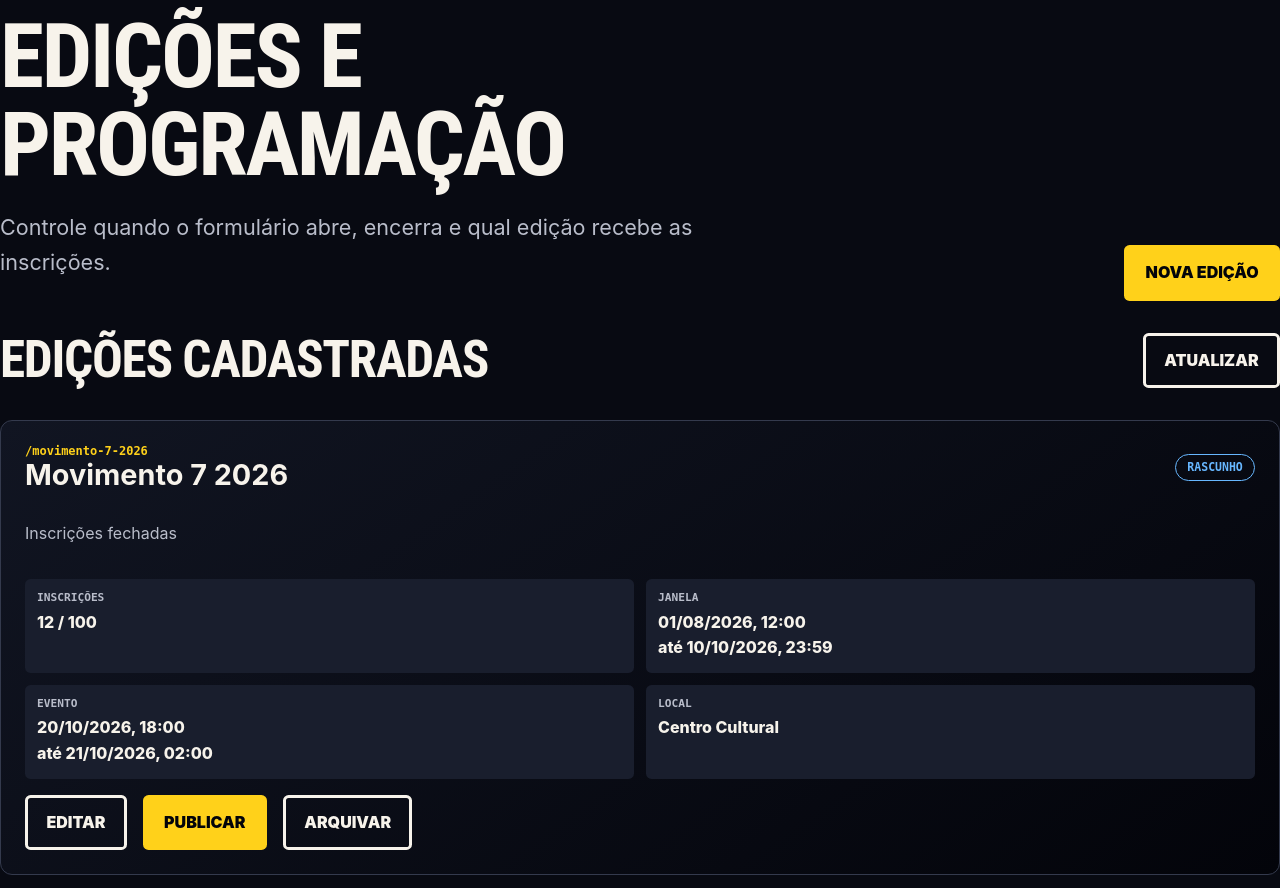
it: edições administrativas › cria uma edição completa como rascunho
Expected: the heading "Movimento 7 2026" is shown, [25,461,288,490]
Click the button "NOVA EDIÇÃO" at (1202, 273), box [1124,245,1279,301]
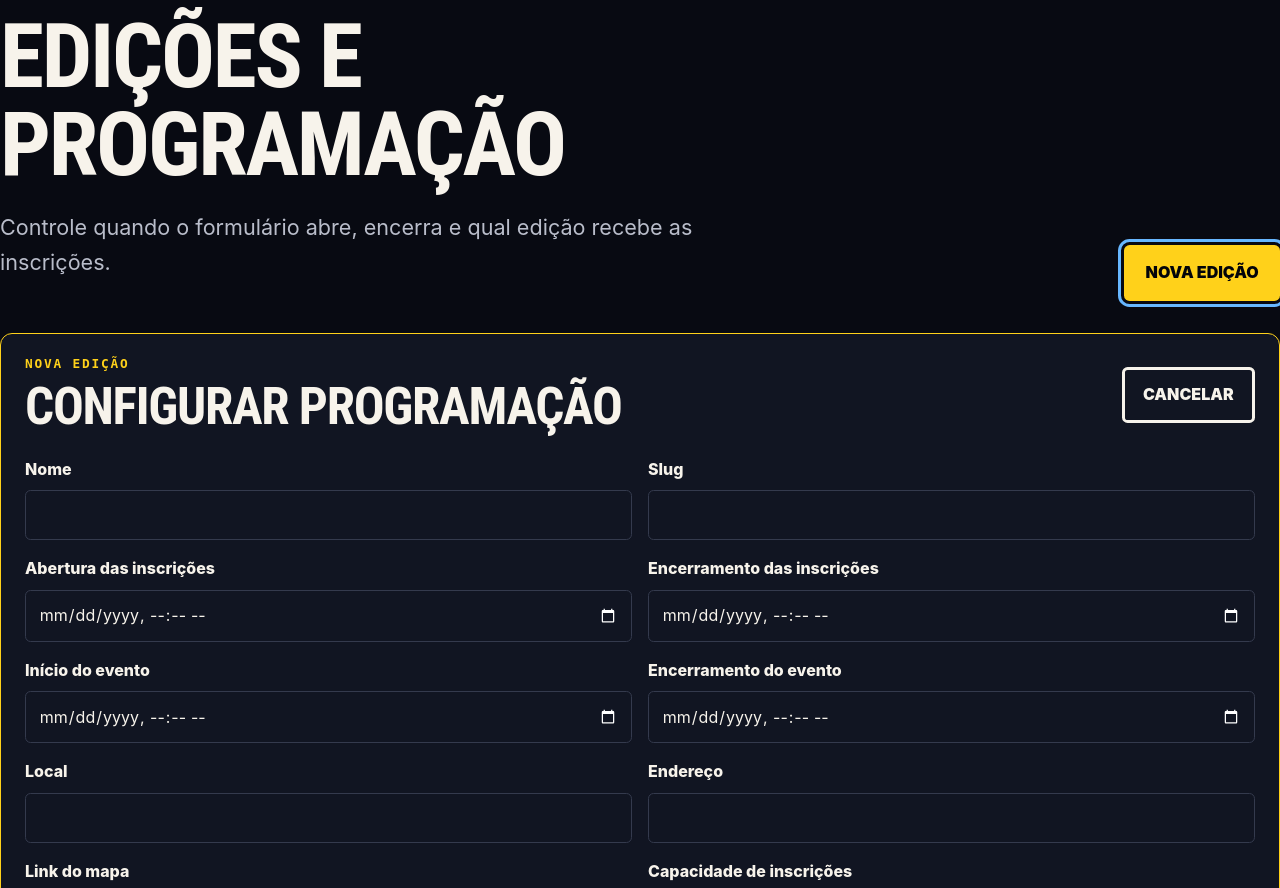
Type "Nova edição" into the field labelled "Nome" at (328, 515), box [25,490,632,540]
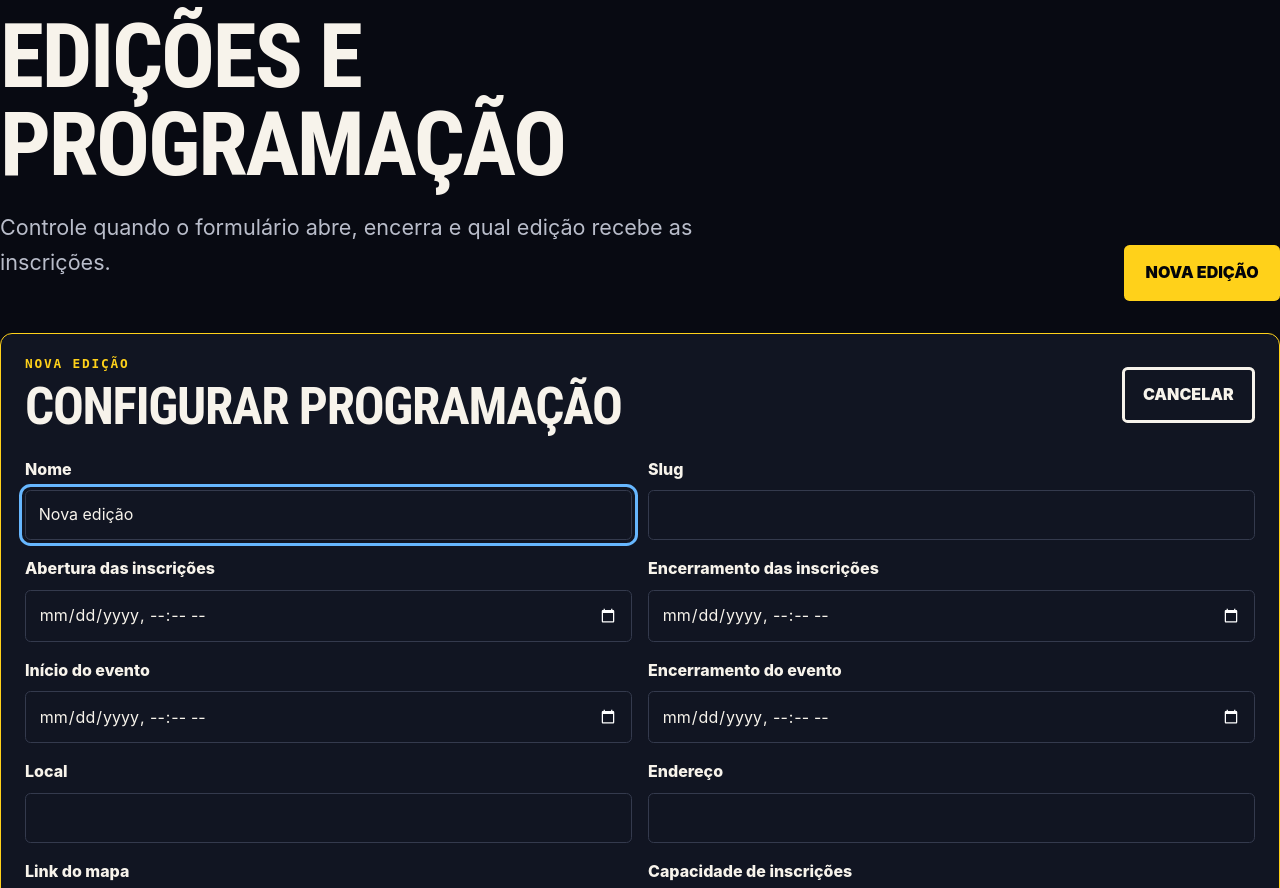
Type "nova-edicao" into the field labelled "Slug" at (952, 515), box [648,490,1255,540]
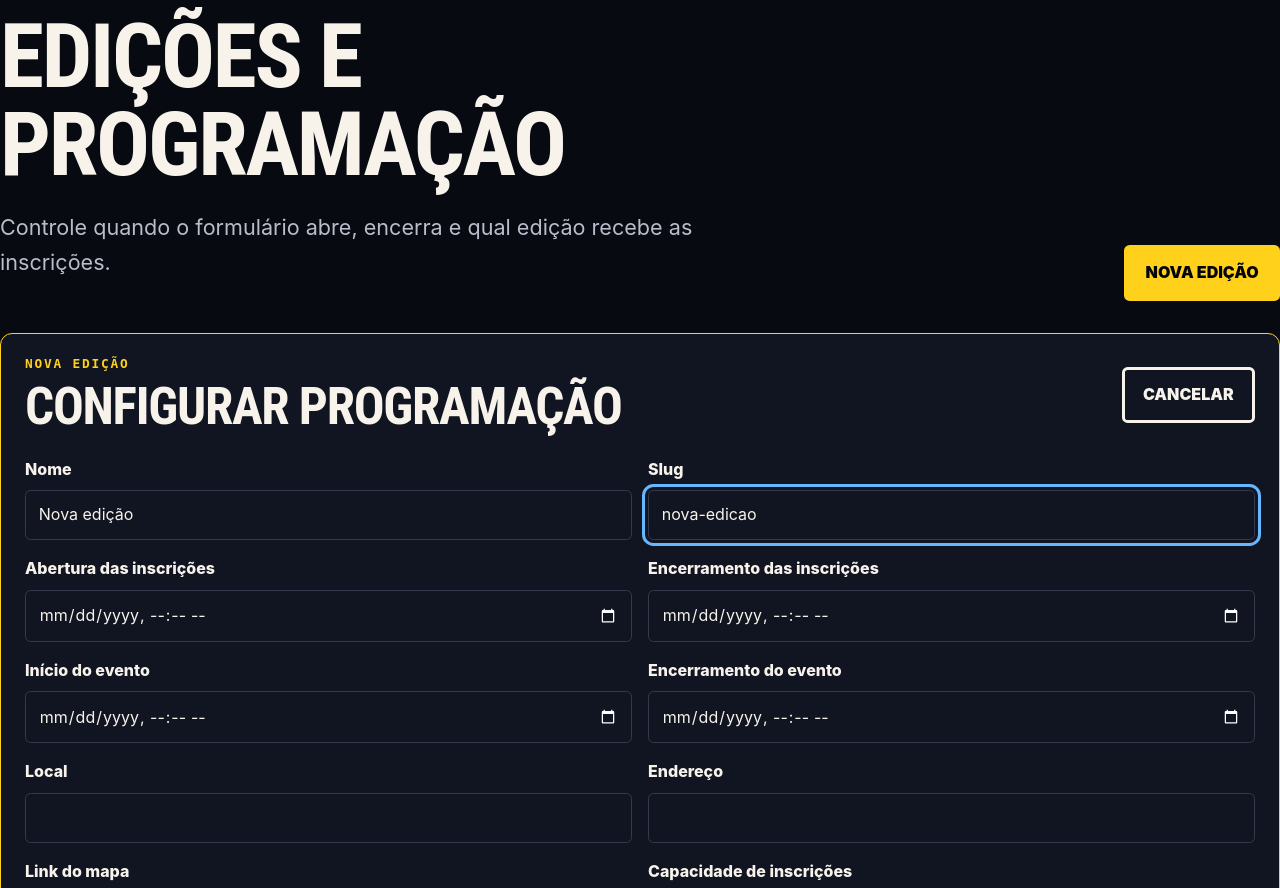
Type "2026-09-01T09:00" into the field labelled "Abertura das inscrições" at (328, 616), box [25,590,632,642]
Type "2026-09-30T18:00" into the field labelled "Encerramento das inscrições" at (952, 616), box [648,590,1255,642]
Type "2026-10-10T09:00" into the field labelled "Início do evento" at (328, 717), box [25,691,632,743]
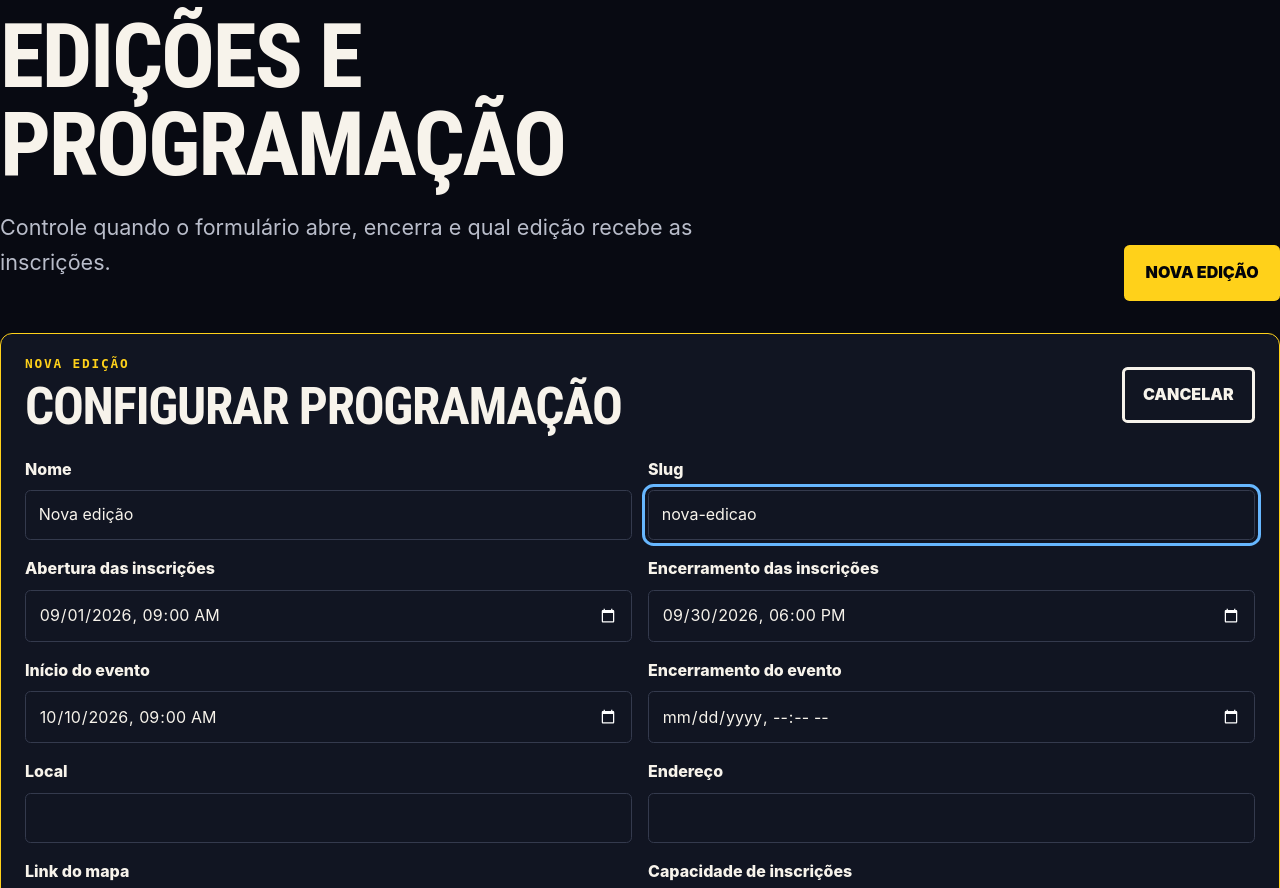
Type "2026-10-10T22:00" into the field labelled "Encerramento do evento" at (952, 717), box [648,691,1255,743]
(page scrolled)
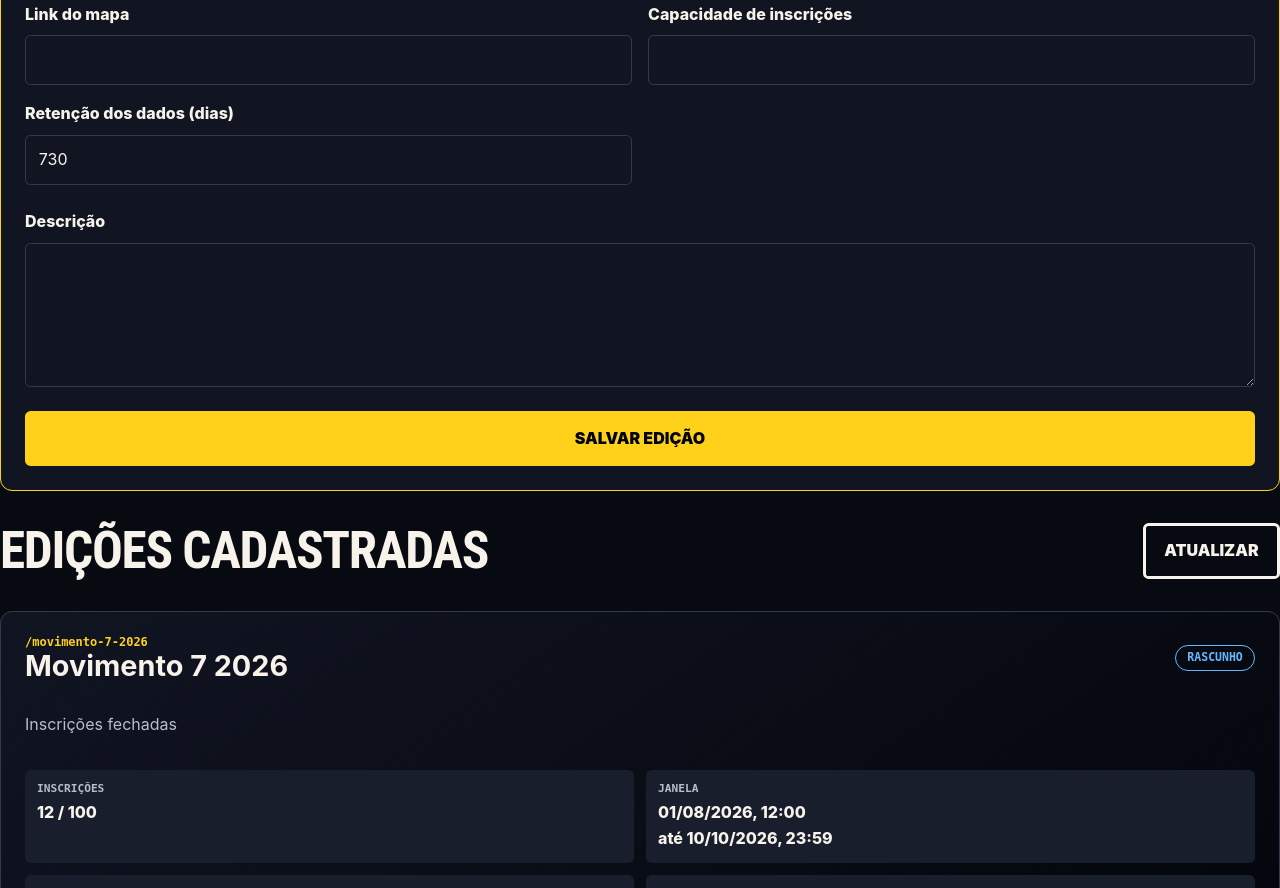
Click the button "SALVAR EDIÇÃO" at (640, 438), box [25,411,1255,466]
(page scrolled)
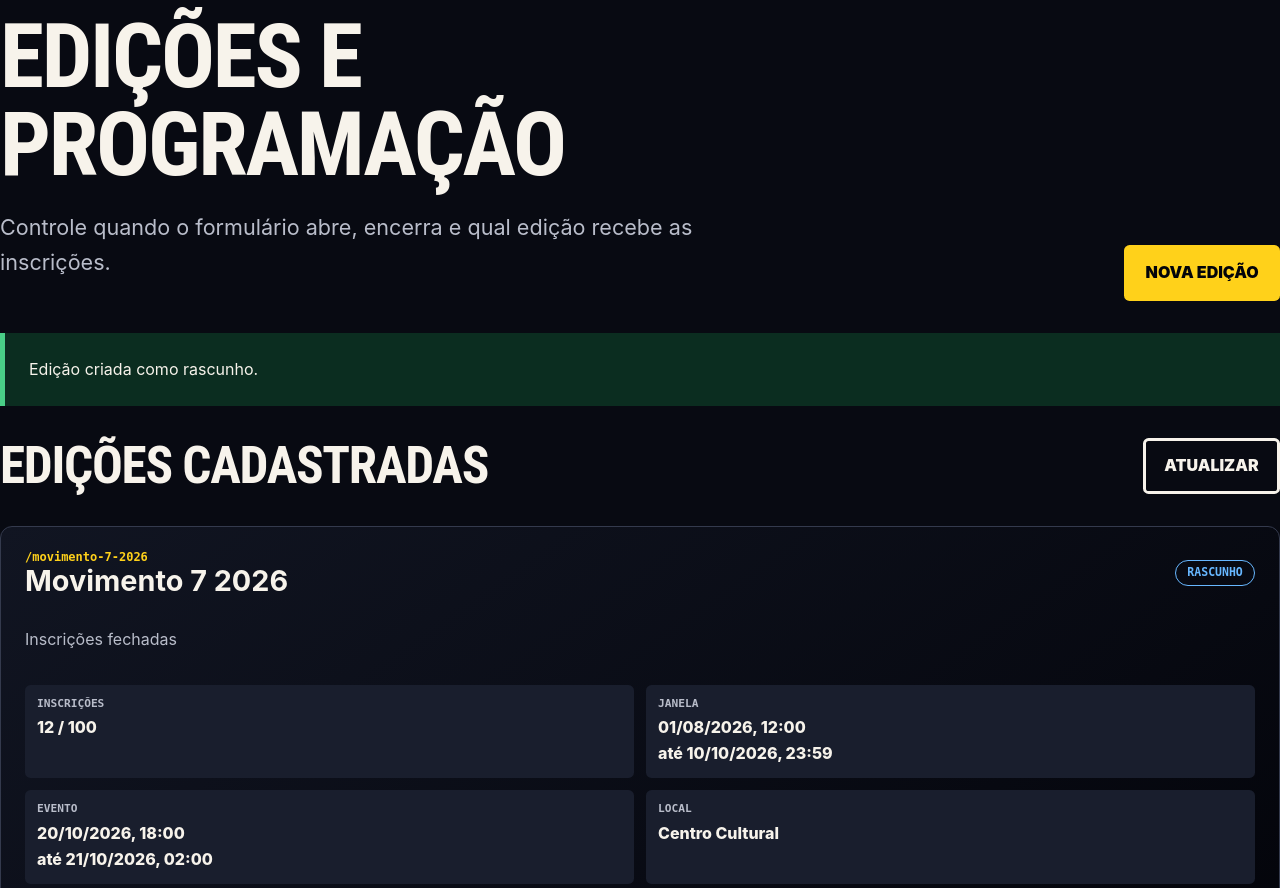
Now the text "Edição criada como rascunho." is shown, box [0,333,1279,406]
